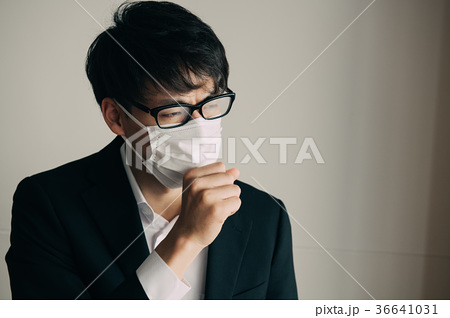mask: (149, 122, 230, 179)
